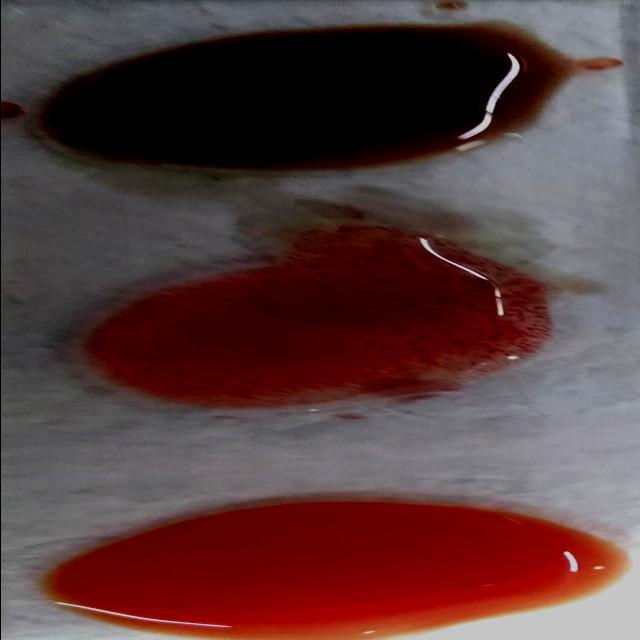D: (60, 248, 554, 408)
